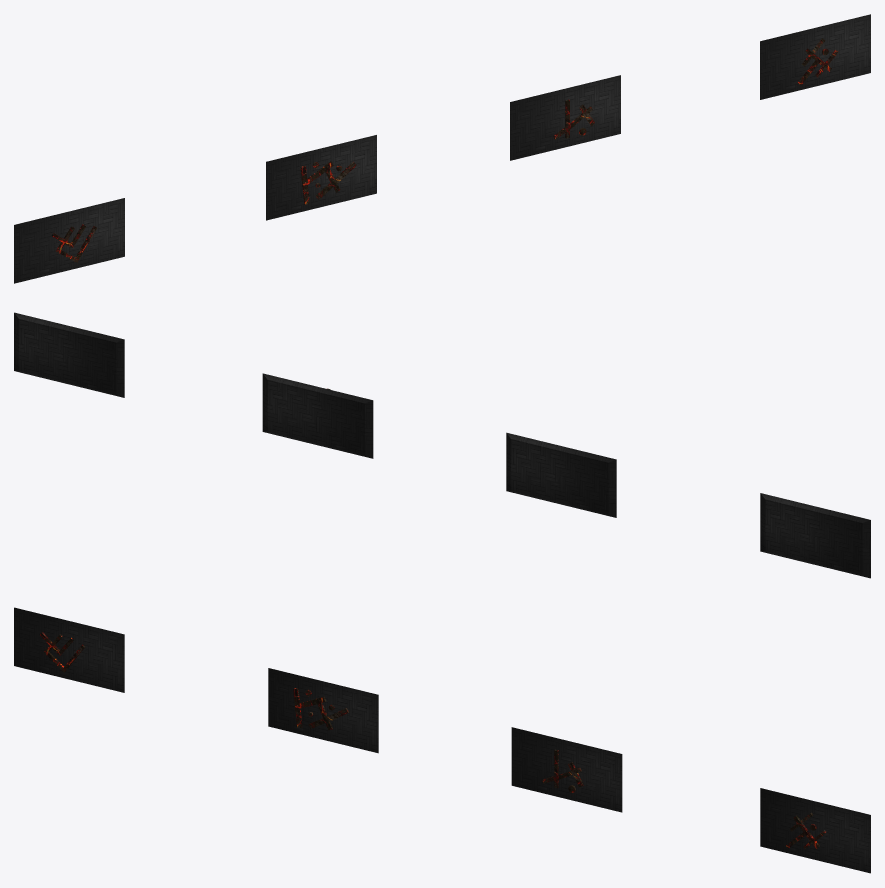
File: Runes+Placks.fbx
The picture shows the model from 3 angles, top to bottom: view 1: azimuth 30°, elevation 25°; view 2: azimuth 150°, elevation 25°; view 3: azimuth 330°, elevation 25°; orthographic projection.
Parts seen in each view (by area): view 1: Plak2, Plak, Plak3, Plak1, Tomatos, Cheese, Piccla, Steak_Symbol; view 2: Plak2, Plak3, Plak1, Plak; view 3: Plak2, Plak3, Plak, Plak1, Tomatos, Steak_Symbol, Piccla.
Part boxes in pixels (left/top/right/bottom): Plak2: left=510, top=75, right=620, bottom=160; Plak: left=14, top=198, right=124, bottom=283; Plak3: left=760, top=14, right=870, bottom=99; Plak1: left=266, top=135, right=376, bottom=220; Tomatos: left=300, top=161, right=356, bottom=204; Cheese: left=798, top=38, right=838, bottom=85; Piccla: left=51, top=224, right=96, bottom=262; Steak_Symbol: left=553, top=99, right=594, bottom=139; Plak2: left=262, top=373, right=373, bottom=458; Plak3: left=14, top=312, right=124, bottom=397; Plak1: left=506, top=432, right=616, bottom=517; Plak: left=760, top=493, right=870, bottom=578; Plak2: left=511, top=727, right=622, bottom=812; Plak3: left=760, top=788, right=870, bottom=873; Plak: left=14, top=607, right=124, bottom=692; Plak1: left=268, top=668, right=378, bottom=753; Tomatos: left=293, top=688, right=349, bottom=730; Steak_Symbol: left=542, top=749, right=583, bottom=792; Piccla: left=40, top=632, right=84, bottom=672.
Size of the model in its own units: 0.8423 by 0.0551 by 0.017.
Materials: 2 (2 with a texture image).
